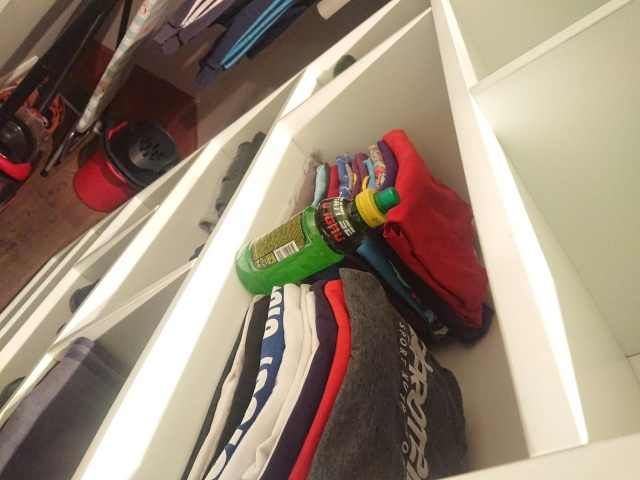Vindi Iso Sport Lemon-Grapefruit 500mL: (232, 184, 404, 299)
